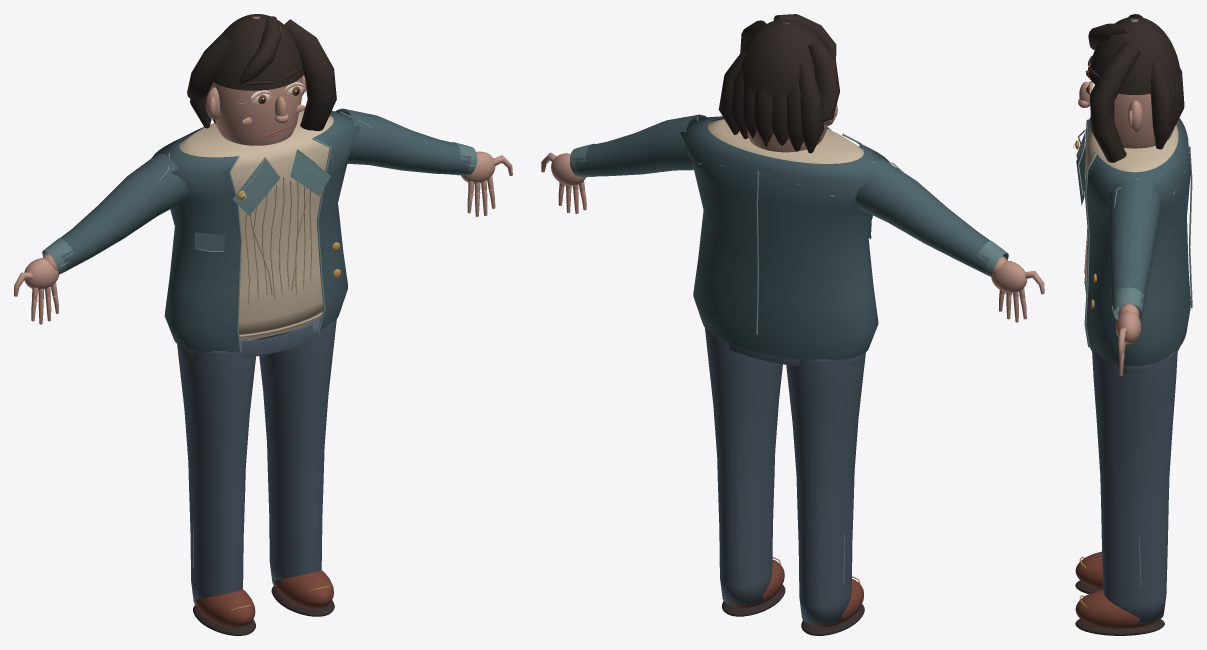
3 views of the same model, side by side, from view 1: azimuth 30°, elevation 25°; view 2: azimuth 150°, elevation 25°; view 3: azimuth 270°, elevation 25° (orthographic).
Parts seen in each view (by area): view 1: Open-front structured jacket, Draped knit underlayer, Left tailored trouser, Right tailored trouser, Left tailored sleeve, Right tailored sleeve, Asymmetric bob scalp, Soft oval head and narrow chin, Long right bob lock, Right cordovan shoe, Left cordovan shoe, Short tucked left lock (+5 smaller); view 2: Open-front structured jacket, Left tailored trouser, Right tailored trouser, Left tailored sleeve, Right tailored sleeve, Asymmetric bob scalp, Draped knit underlayer, Back bob lock 1, Short tucked left lock, Back bob lock 4, Back bob lock 7, Back bob lock 2 (+2 smaller); view 3: Right tailored trouser, Open-front structured jacket, Right tailored sleeve, Asymmetric bob scalp, Long right bob lock, Draped knit underlayer, Soft oval head and narrow chin, Right cordovan shoe, Back bob lock 7, Left cordovan shoe, Right shoe sole, Right hand palm (+9 smaller).
Boxes of the visible parts, x1,y1,x2,y2 form: Open-front structured jacket: (152,109,360,352); Draped knit underlayer: (179,110,333,339); Left tailored trouser: (177,338,257,606); Right tailored trouser: (258,316,336,587); Left tailored sleeve: (60,153,188,269); Right tailored sleeve: (336,108,470,174); Asymmetric bob scalp: (212,14,303,90); Soft oval head and narrow chin: (210,16,302,145); Long right bob lock: (284,19,336,131); Right cordovan shoe: (274,570,333,608); Left cordovan shoe: (195,589,255,627); Short tucked left lock: (187,33,232,100); Open-front structured jacket: (680,116,889,360); Left tailored trouser: (786,354,865,625); Right tailored trouser: (705,328,782,606); Left tailored sleeve: (855,159,989,272); Right tailored sleeve: (575,114,711,176); Asymmetric bob scalp: (741,19,820,96); Draped knit underlayer: (707,119,863,163); Back bob lock 1: (799,63,824,153); Short tucked left lock: (808,40,839,121); Back bob lock 4: (753,88,773,147); Back bob lock 7: (718,47,746,134); Back bob lock 2: (786,82,803,151); Right tailored trouser: (1092,350,1177,623); Open-front structured jacket: (1086,118,1190,365); Right tailored sleeve: (1108,179,1161,316); Asymmetric bob scalp: (1089,16,1180,94); Long right bob lock: (1090,42,1140,162); Draped knit underlayer: (1085,125,1178,177); Soft oval head and narrow chin: (1091,19,1174,148); Right cordovan shoe: (1075,589,1155,628); Back bob lock 7: (1150,59,1173,149); Left cordovan shoe: (1075,551,1102,589); Right shoe sole: (1075,619,1164,635); Right hand palm: (1116,311,1140,344).
Bounding box in the file's own units: 1.71 × 1.94 × 0.3562.
